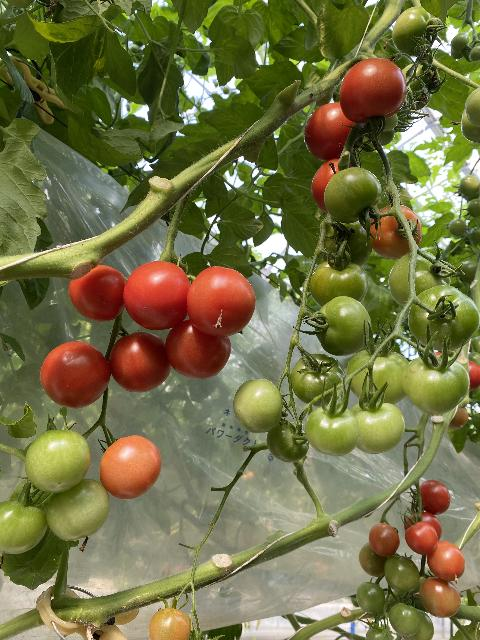l_fully_ripened: (186, 266, 256, 337), (40, 341, 111, 409), (123, 261, 192, 330), (339, 57, 406, 124), (165, 319, 232, 379), (109, 331, 172, 393), (69, 265, 126, 322), (304, 102, 355, 162), (311, 159, 353, 214), (404, 521, 439, 556), (403, 512, 442, 542), (419, 479, 451, 515)
l_green: (408, 285, 480, 351), (25, 429, 90, 494), (45, 479, 112, 542), (402, 354, 470, 414), (389, 250, 451, 311), (347, 349, 409, 405), (315, 296, 371, 356), (324, 167, 382, 224), (290, 353, 346, 407), (305, 403, 362, 456), (350, 402, 406, 454), (310, 258, 368, 307), (233, 378, 283, 434), (316, 219, 374, 267), (0, 501, 48, 555), (392, 6, 432, 57), (266, 421, 310, 462), (401, 63, 433, 110), (383, 555, 420, 593), (400, 608, 434, 640), (359, 542, 390, 577), (388, 604, 419, 637), (357, 581, 385, 613), (461, 109, 480, 142), (465, 87, 480, 126), (458, 260, 477, 283), (459, 175, 479, 196), (450, 33, 469, 53), (449, 219, 466, 236), (467, 199, 480, 218), (365, 628, 385, 640), (469, 45, 480, 62), (451, 48, 465, 59)
l_half_ripened: (100, 435, 162, 500), (368, 204, 423, 260), (420, 576, 461, 619), (427, 541, 465, 581), (149, 608, 191, 640), (368, 523, 400, 556)
